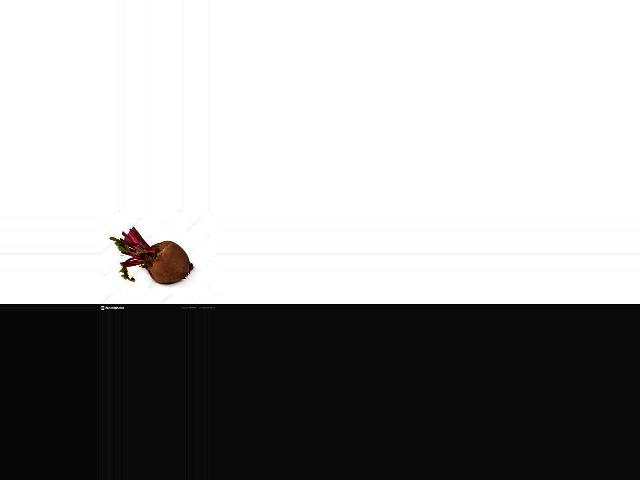beet: (110, 227, 193, 284)
